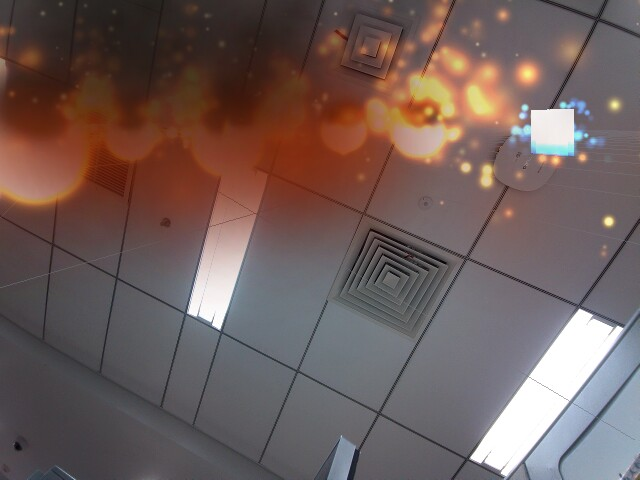fire: (0, 94, 93, 207), (190, 103, 268, 177), (388, 104, 449, 160), (317, 103, 370, 157), (105, 112, 156, 162)
